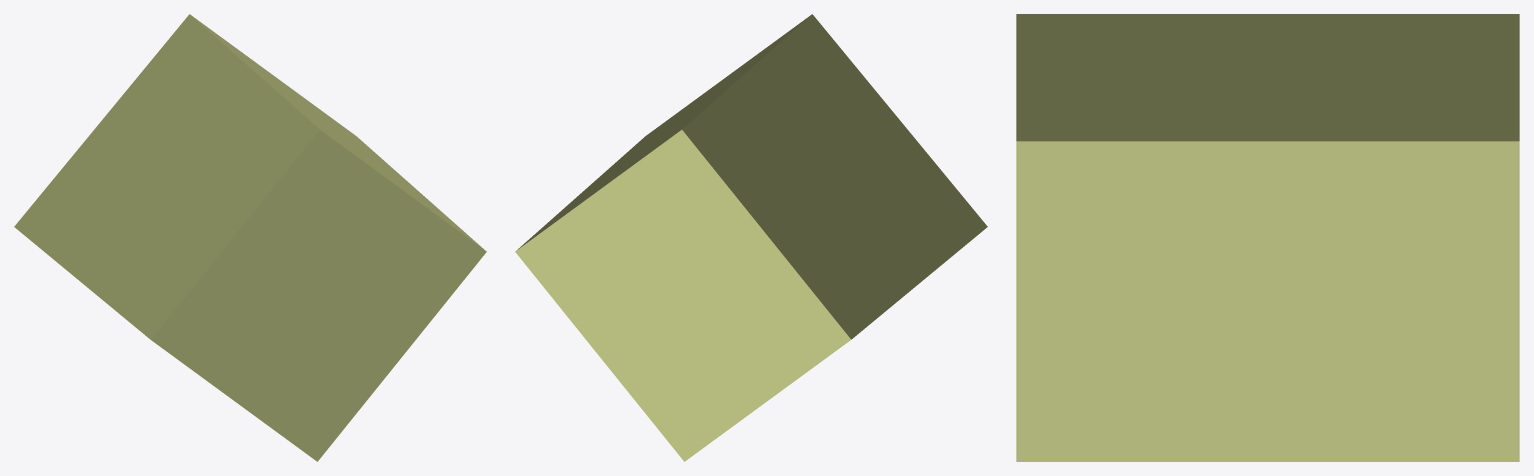
The picture shows the model from 3 angles, left to right: view 1: azimuth 30°, elevation 25°; view 2: azimuth 150°, elevation 25°; view 3: azimuth 270°, elevation 25°; orthographic projection. The views are drawn at different scales.
Visible parts, largest first — view 1: 0_0_1_1_3_2_0_3_1_0_2; view 2: 0_0_1_1_3_2_0_3_1_0_2; view 3: 0_0_1_1_3_2_0_3_1_0_2.
Boxes of the visible parts, bbox=[...] form: 0_0_1_1_3_2_0_3_1_0_2: bbox=[14, 14, 486, 461]; 0_0_1_1_3_2_0_3_1_0_2: bbox=[515, 14, 987, 461]; 0_0_1_1_3_2_0_3_1_0_2: bbox=[1016, 14, 1519, 461].
Bounding box in the file's own units: 9.52 × 9.41 × 9.
